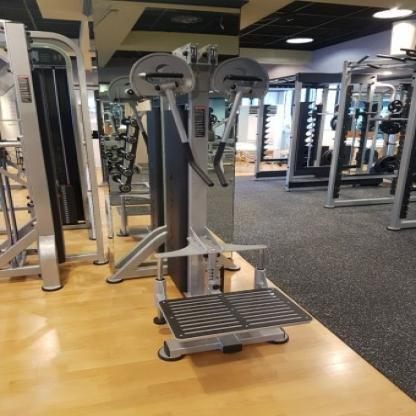lateral raises machine: (130, 44, 313, 363)
